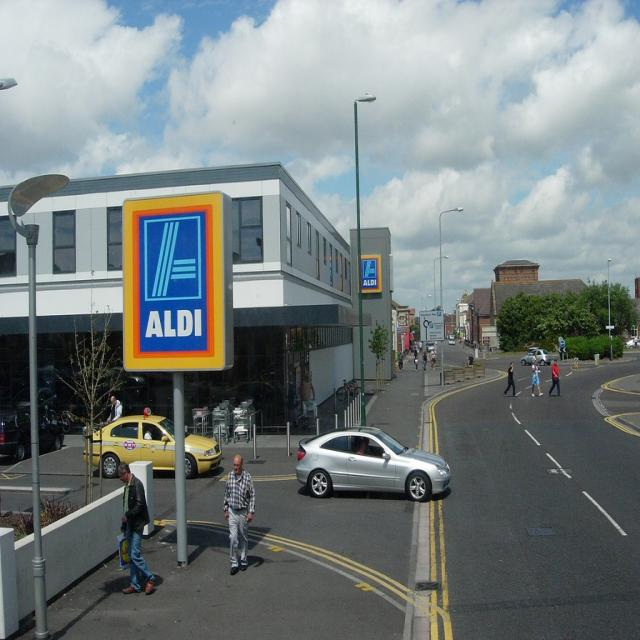aldi: (126, 194, 226, 370), (362, 256, 382, 294)
